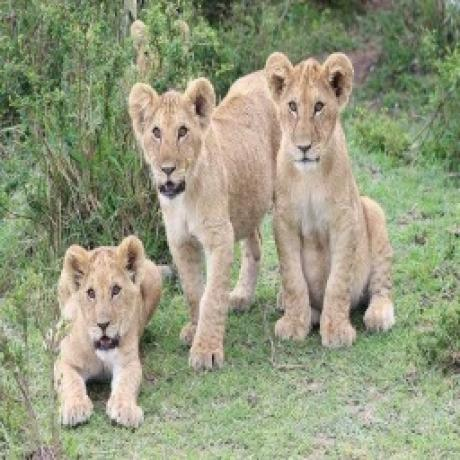Lion: (126, 67, 278, 375), (265, 49, 399, 349), (52, 235, 162, 436)
